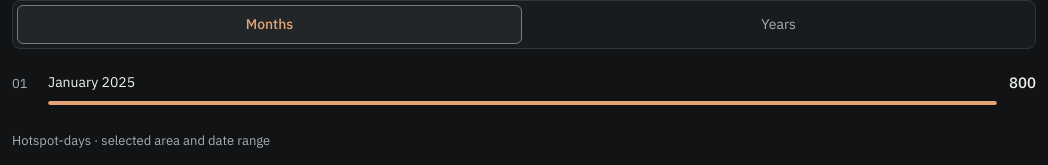
Test: ranking exploration › clears expanded rows when a new area returns fewer periods
Earlier steps of the test are not shown.
Expected: the number of list items is 1, [12, 73, 1036, 105]
Click the button "Years".
click(778, 24)  # box [526, 5, 1031, 44]
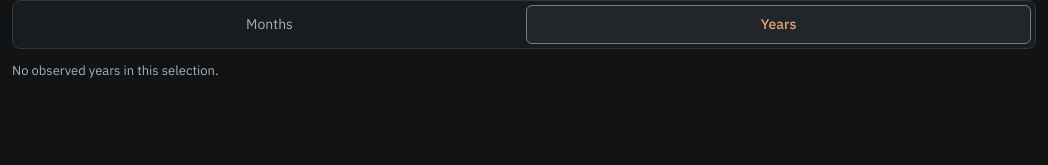
Now the text "No observed years in this selection." is shown, box [12, 62, 218, 79]
